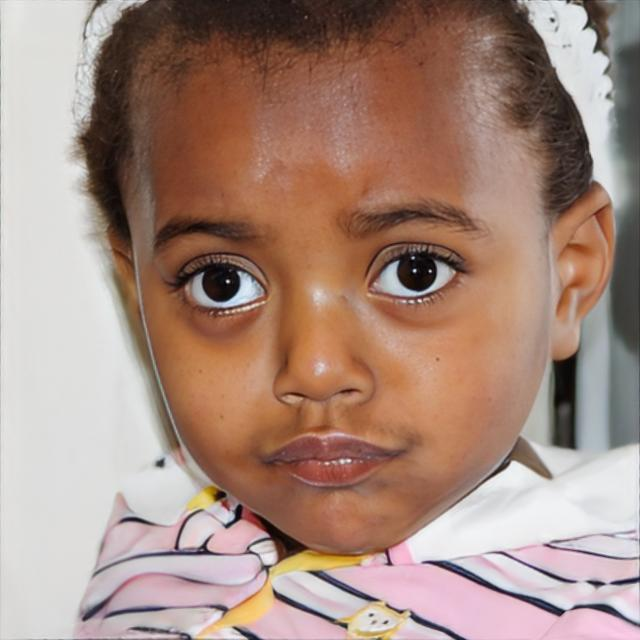neutral: (133, 17, 540, 553)
